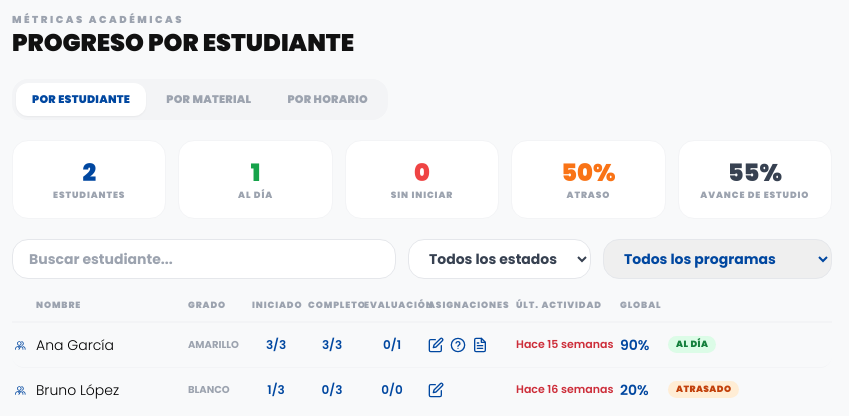
Test case: PanelMetricasEstudiantes › filtro por programa › al filtrar por un programa, recalcula los números del estudiante solo con esas asignaciones
Check: the text "Ana García" is shown, box [36,334,114,354]
Select "Programa Infantil" in the dropdown named "Filtrar por programa". click: (718, 259)
box: [603,239,832,279]
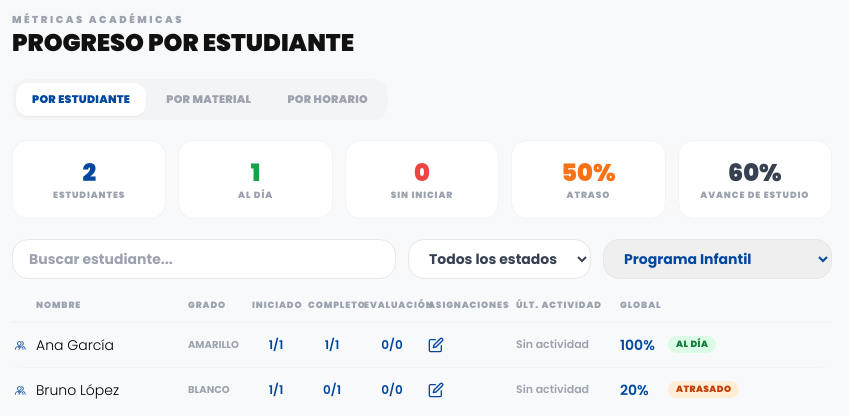
Check: the text "Ana García" is shown, box [36,334,114,354]
Check: the text "100%" is shown, box [620,334,660,354]
